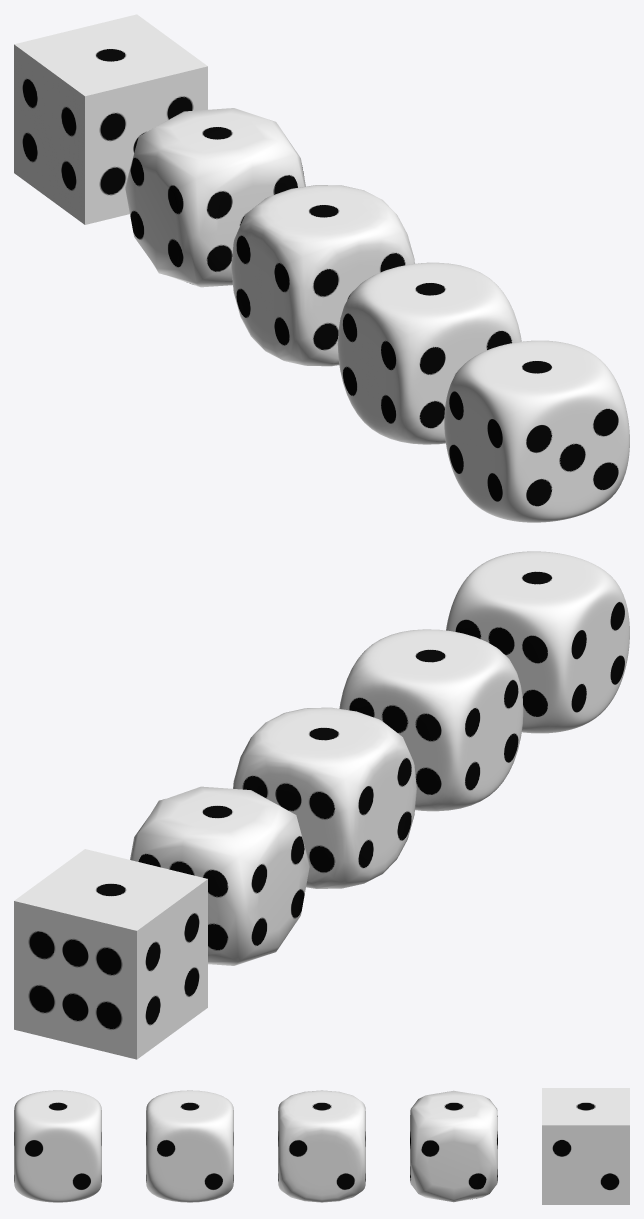
File: uploads_files_5555582_Dice+Rounded+-+Different+LOD.fbx
3 views of the same model, one above another, from view 1: azimuth 30°, elevation 25°; view 2: azimuth 150°, elevation 25°; view 3: azimuth 270°, elevation 25° (orthographic). The views are drawn at different scales.
Visible parts, largest first — view 1: The Dice.008, The Dice.001, The Dice.005, The Dice.004, The Dice.006; view 2: The Dice.001, The Dice.004, The Dice.005, The Dice.008, The Dice.006; view 3: The Dice.001, The Dice.008, The Dice.005, The Dice.004, The Dice.006.
Part boxes in pixels (x1,y1,x2,y2): The Dice.008: (444, 340, 629, 522); The Dice.001: (14, 14, 207, 224); The Dice.005: (337, 262, 521, 444); The Dice.004: (231, 185, 414, 366); The Dice.006: (125, 108, 305, 287); The Dice.001: (14, 849, 207, 1059); The Dice.004: (233, 707, 416, 888); The Dice.005: (339, 629, 523, 811); The Dice.008: (446, 551, 629, 733); The Dice.006: (130, 786, 309, 965); The Dice.001: (542, 1088, 629, 1204); The Dice.008: (14, 1090, 101, 1202); The Dice.005: (146, 1090, 233, 1202); The Dice.004: (278, 1090, 365, 1202); The Dice.006: (410, 1090, 497, 1202).
Bounding box in the file's own units: 2 × 2 × 14.
